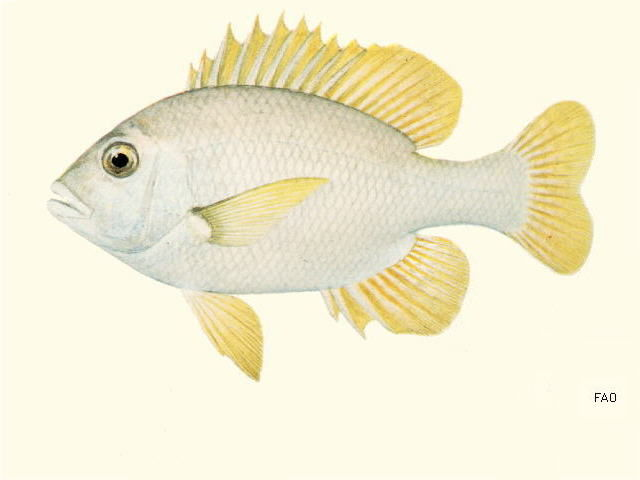fish: (47, 11, 597, 382)
